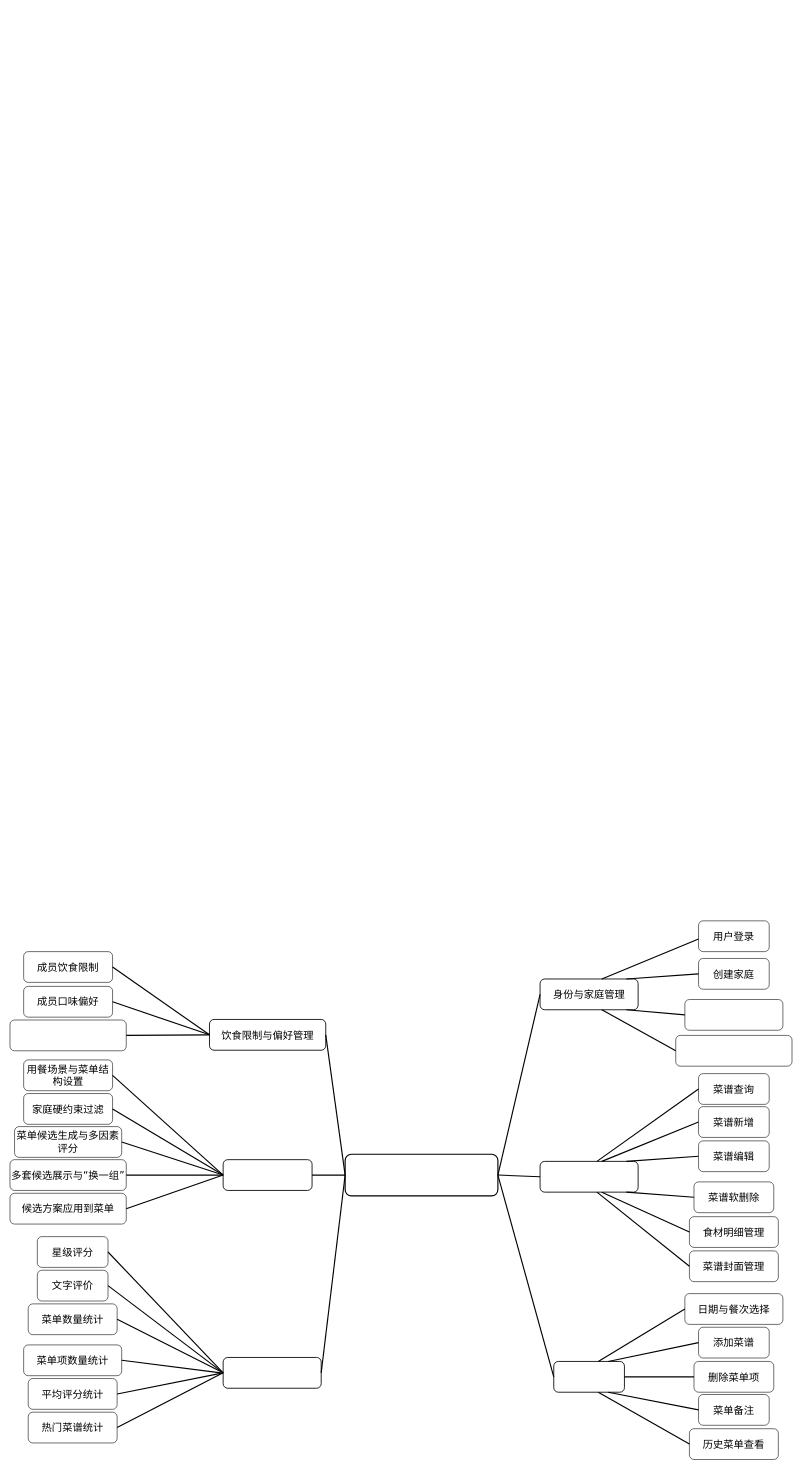
The diagram is 802 pixels wide and 1469 high, and some of its shapes have lost their labels. Here are the shapes that lost their labels. From the top down, the box of each, then its label:
(684, 999, 783, 1030): 邀请码加入家庭
(9, 1019, 126, 1051): 家庭限制与偏好汇总
(675, 1035, 792, 1066): 家庭信息与成员查看
(222, 1159, 312, 1191): 菜谱推荐管理
(344, 1153, 498, 1196): 基于微信小程序的 家庭膳食管理与菜谱推荐系统
(539, 1161, 638, 1192): 菜谱与食材管理
(222, 1357, 321, 1388): 用餐反馈与统计
(553, 1361, 625, 1392): 菜单管理
